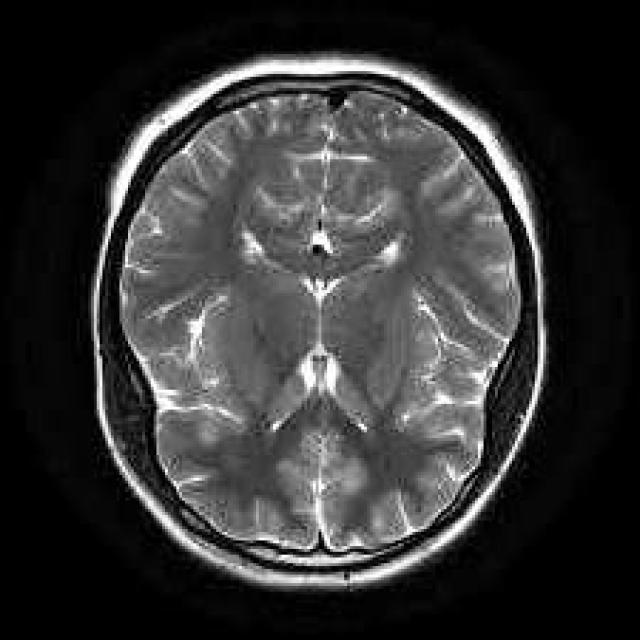no-tumor: (179, 149, 445, 473)
